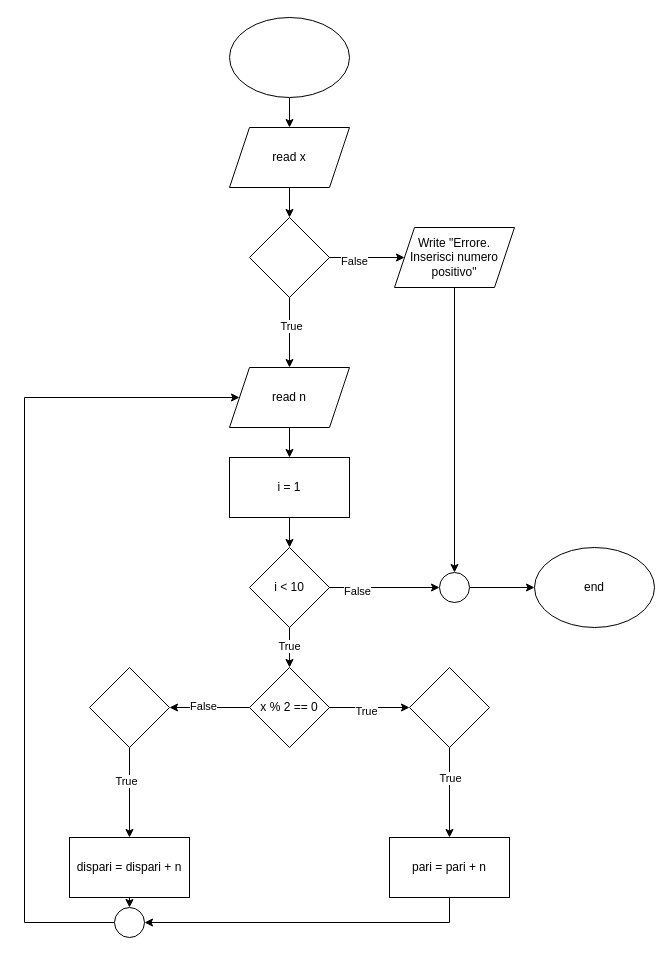
The diagram is 672 pixels wide and 955 high, and some of its shapes have lost their labels. Here are the shapes that lost their labels. From the top down, the box of each, then its label:
(228, 16, 350, 98): start
(248, 216, 330, 298): x >= 0
(88, 666, 170, 748): n < x
(408, 666, 490, 748): n > x/2
